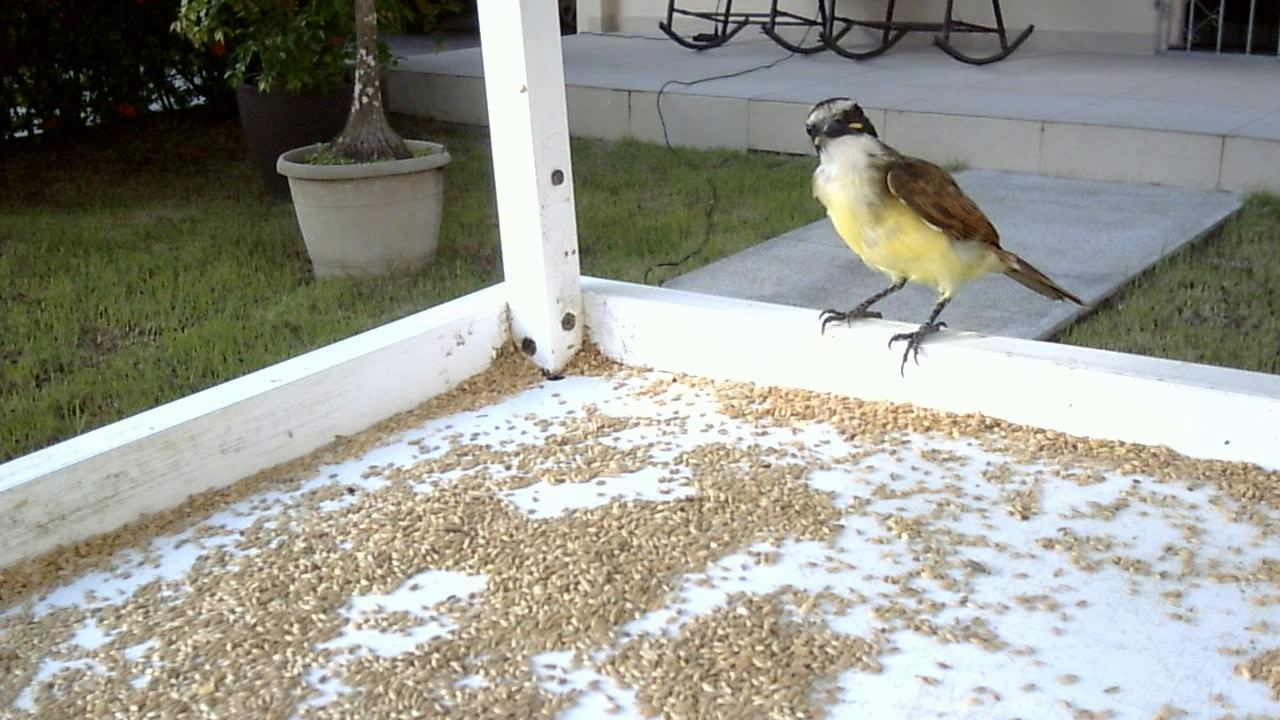bem_te_vi: (789, 92, 1084, 379)
